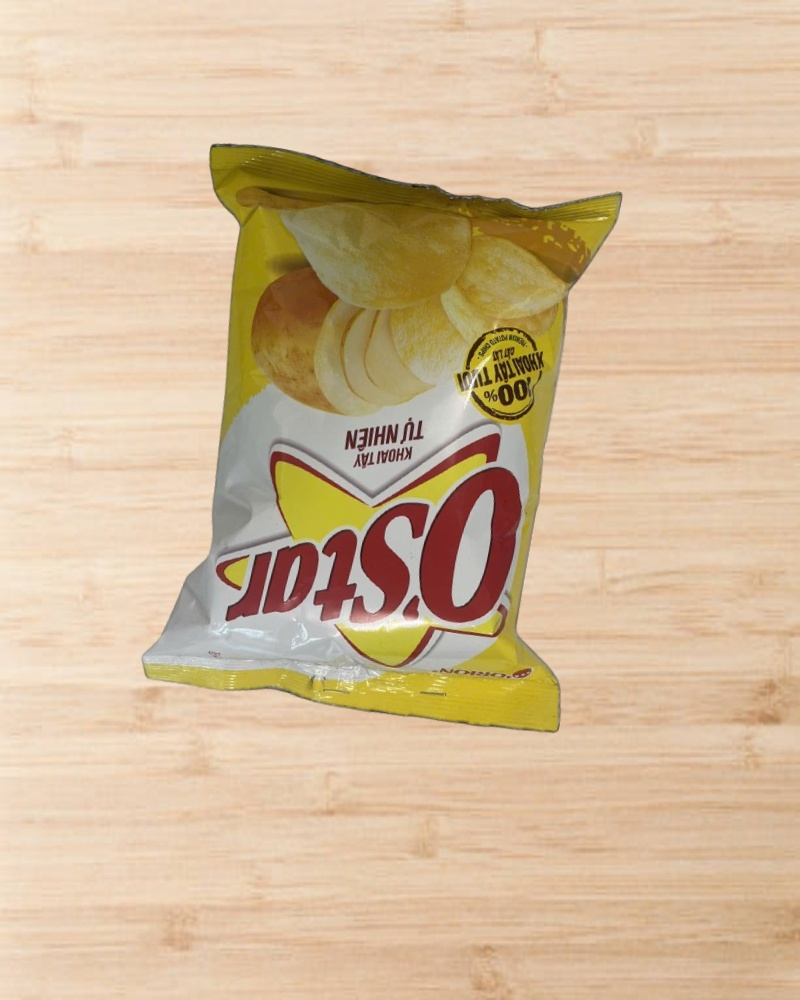Snack cua: (125, 129, 649, 744)
